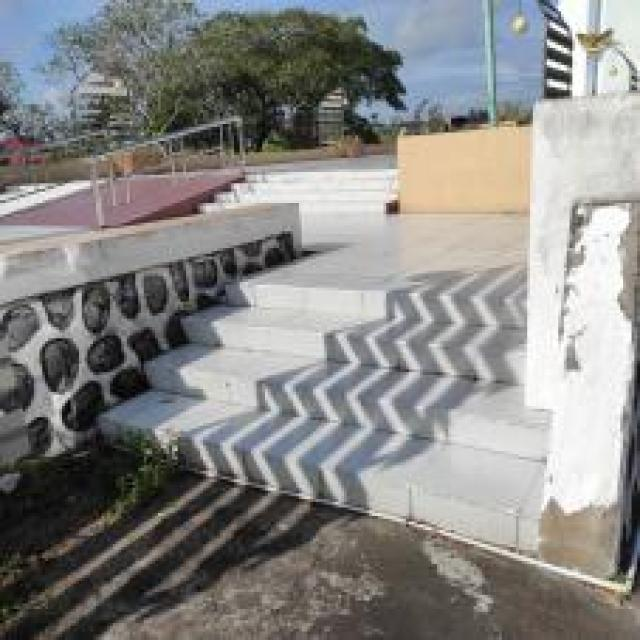upstair: (210, 280, 506, 548)
